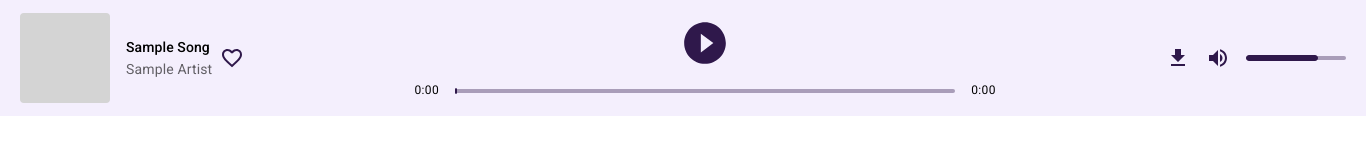
Test: Player Component › deve marcar a música como curtida ao clicar no botão de like
What coordinates should you click on to do the following:
click the button with test id "FavoriteBorderIcon"
I would click on:
 (232, 58)
Its box is [212,38,252,78].
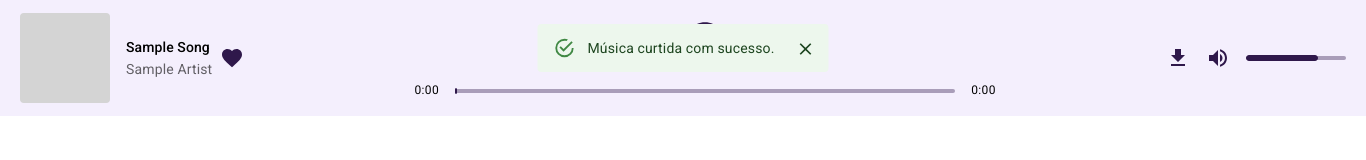
Now the icon with test id "FavoriteIcon" is shown, box [220,46,244,70]
